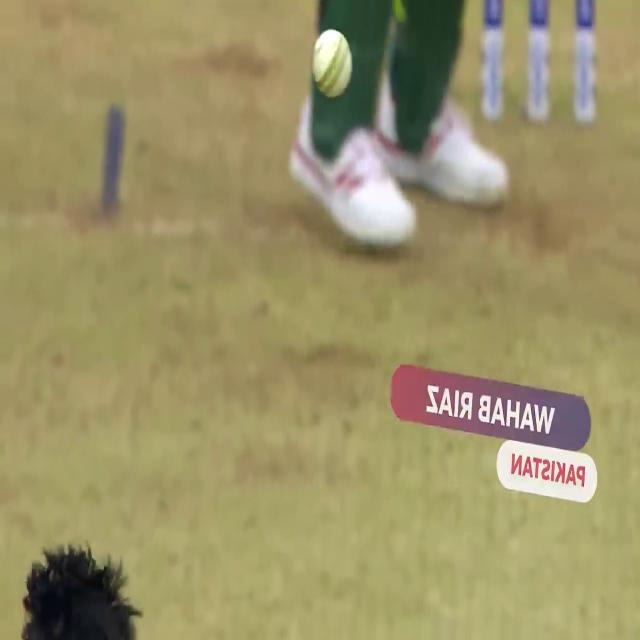ball: (311, 23, 353, 102)
